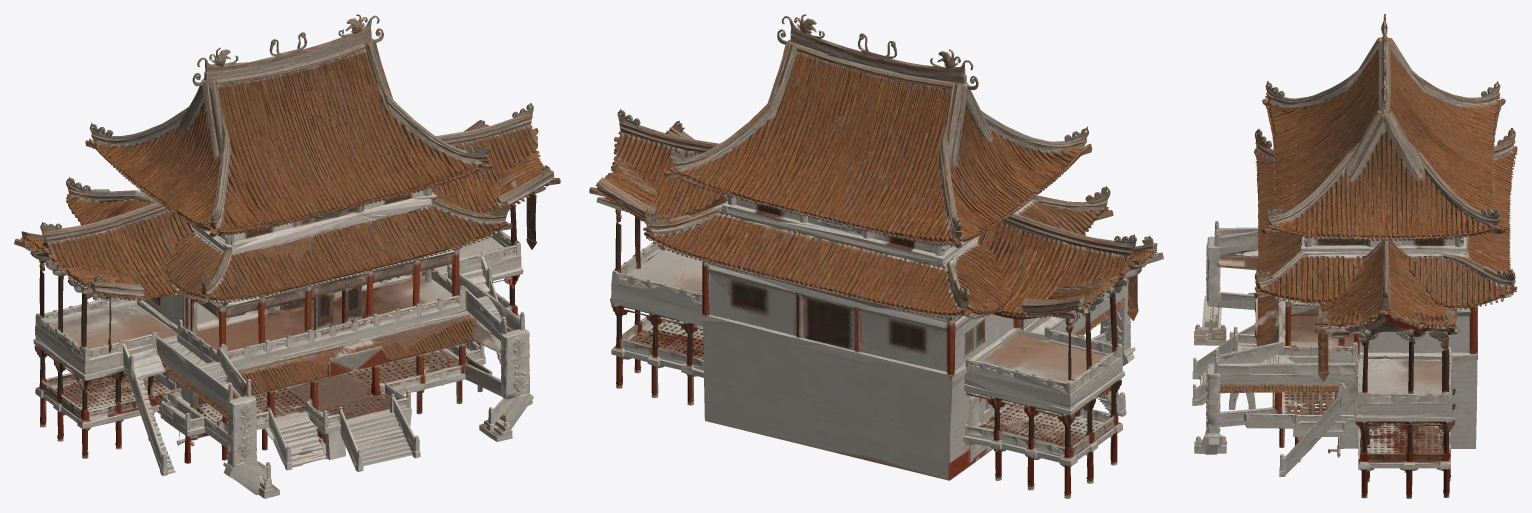
Rendered from palace_grand.glb.
3 views of the same model, side by side, from view 1: azimuth 30°, elevation 25°; view 2: azimuth 150°, elevation 25°; view 3: azimuth 270°, elevation 25° (orthographic). The views are drawn at different scales.
Size of the model in its own units: 1.9 by 1.35 by 1.13.
1 material, 1 textured.
